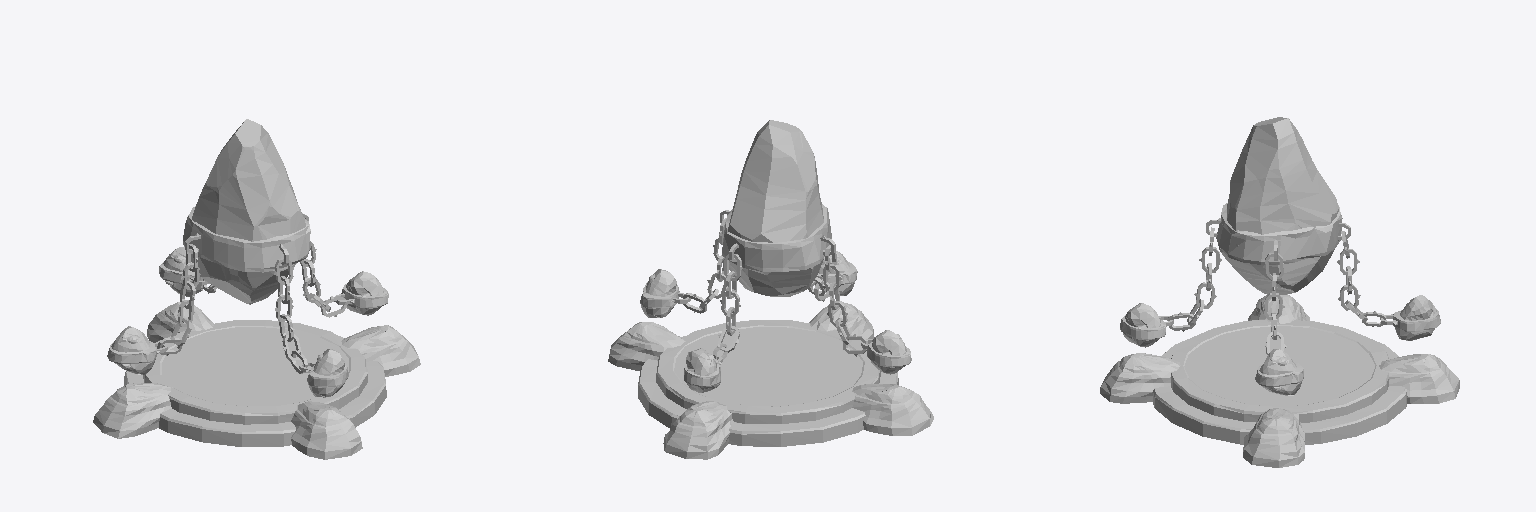
Rendered from RunicEnergyFocus.obj.
The picture shows the model from 3 angles: view 1: azimuth 30°, elevation 25°; view 2: azimuth 150°, elevation 25°; view 3: azimuth 270°, elevation 25°; orthographic projection.
Parts seen in each view (by area): view 1: Runestone, Cristal; view 2: Runestone, Cristal; view 3: Runestone, Cristal.
Boxes of the visible parts, <box> form: Runestone: <box>93,302,420,459</box>; Cristal: <box>107,119,388,397</box>; Runestone: <box>608,301,933,459</box>; Cristal: <box>640,120,911,392</box>; Runestone: <box>1100,294,1459,467</box>; Cristal: <box>1120,117,1440,395</box>.
Bounding box in the file's own units: 8.17 × 6.73 × 8.09.